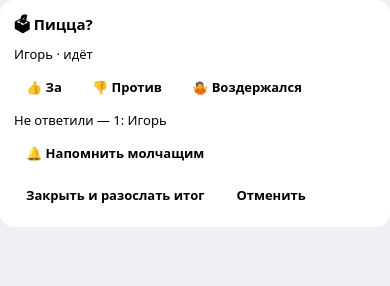
Test: PollCard — админ у чужого опроса › «Отменить» спрашивает про отмену, а не про закрытие
Click the button "Отменить": (271, 195) [224, 177, 318, 213]
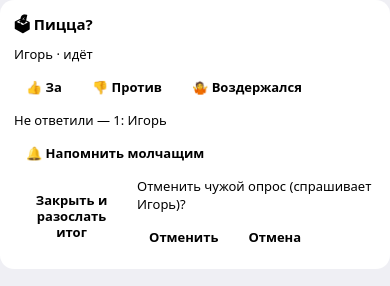
Expected: the text "Отменить чужой опрос (спрашивает Игорь)?" is shown, [137, 177, 376, 213]
